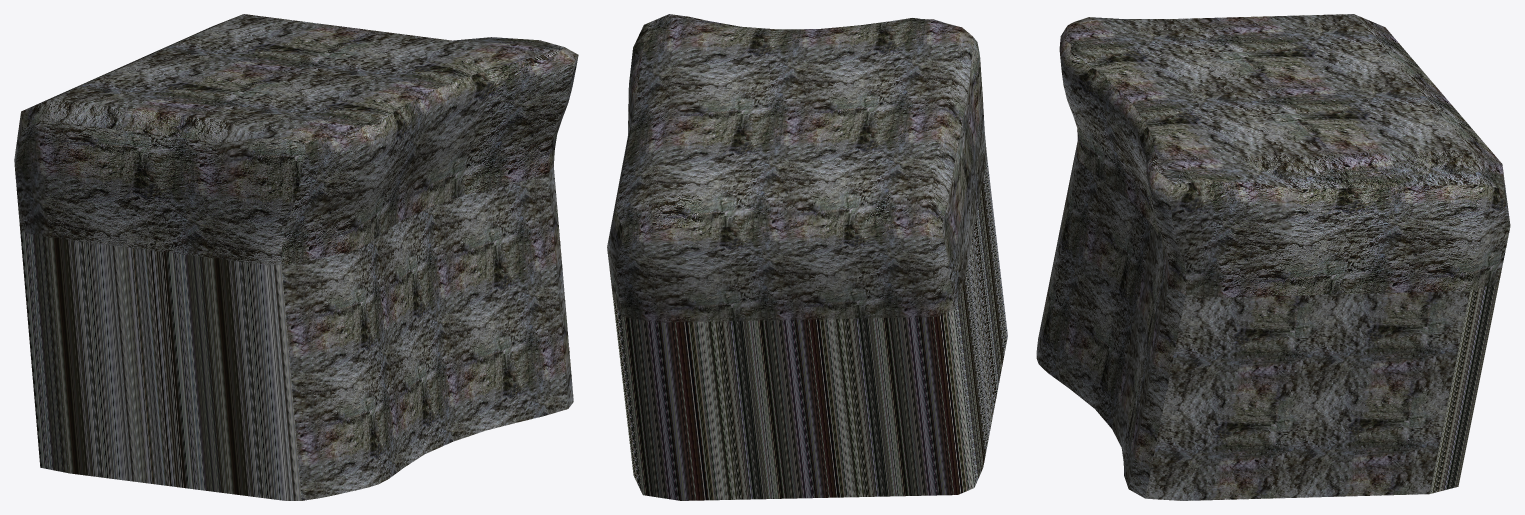
The model's file is xuanya_2.FBX.
The picture shows the model from 3 angles, left to right: view 1: azimuth 30°, elevation 25°; view 2: azimuth 150°, elevation 25°; view 3: azimuth 270°, elevation 25°; orthographic projection. The views are drawn at different scales.
Visible parts, largest first — view 1: Plane961; view 2: Plane961; view 3: Plane961.
Boxes of the visible parts, x1,y1,x2,y2 form: Plane961: [14, 14, 578, 500]; Plane961: [607, 14, 1007, 500]; Plane961: [1036, 14, 1510, 500].
Bounding box in the file's own units: 43625 × 38255 × 41964.
Materials: 1 (1 with a texture image).
